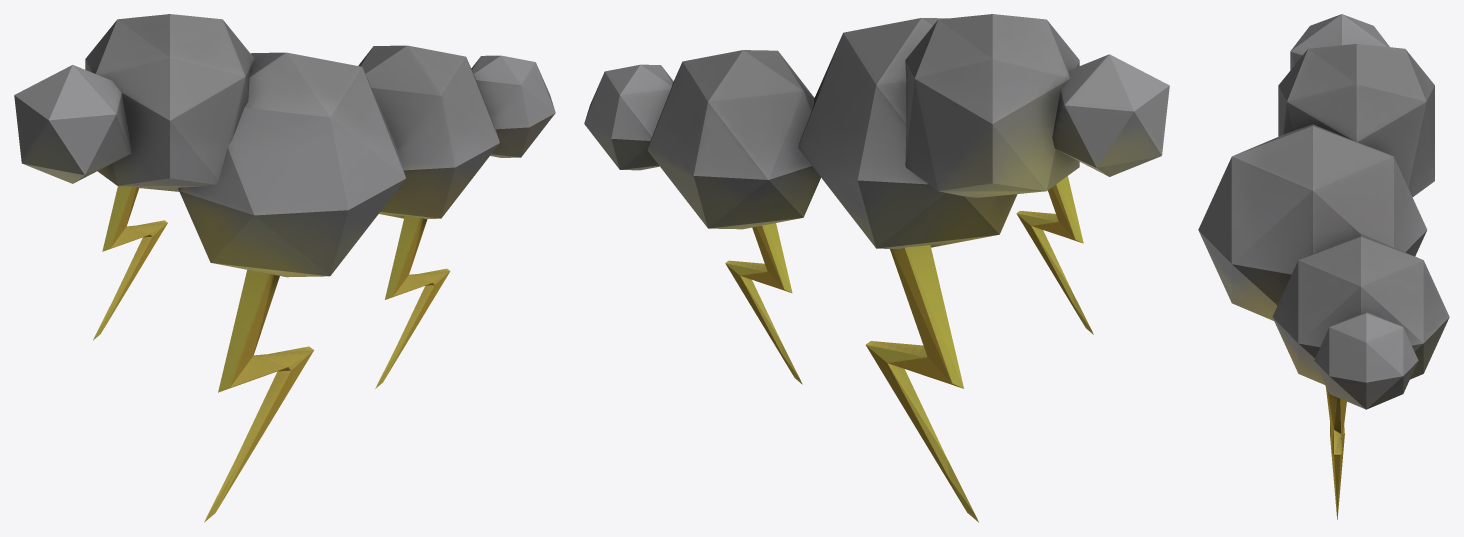
The model's file is Cloud_17.fbx.
3 renders of one model, left to right at view 1: azimuth 30°, elevation 25°; view 2: azimuth 150°, elevation 25°; view 3: azimuth 270°, elevation 25°, orthographic. The views are drawn at different scales.
Parts seen in each view (by area): view 1: Cloud_17; view 2: Cloud_17; view 3: Cloud_17.
Part boxes in pixels (x1=…): Cloud_17: x1=14, y1=14, x2=555, y2=522; Cloud_17: x1=584, y1=14, x2=1169, y2=522; Cloud_17: x1=1198, y1=14, x2=1449, y2=519.
Size of the model in its own units: 98.94 by 88.51 by 43.04.
